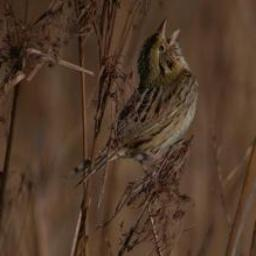Sparrow: (60, 16, 200, 190)
